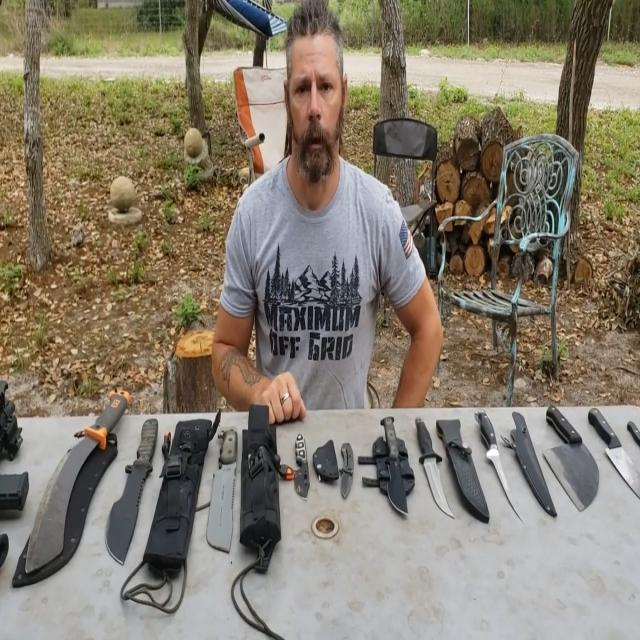knife: (15, 362, 134, 578), (90, 404, 167, 569), (570, 397, 640, 492), (204, 430, 252, 558), (532, 404, 594, 503), (406, 421, 450, 518), (468, 412, 516, 498), (377, 396, 404, 536), (335, 427, 369, 507), (289, 434, 320, 514)
